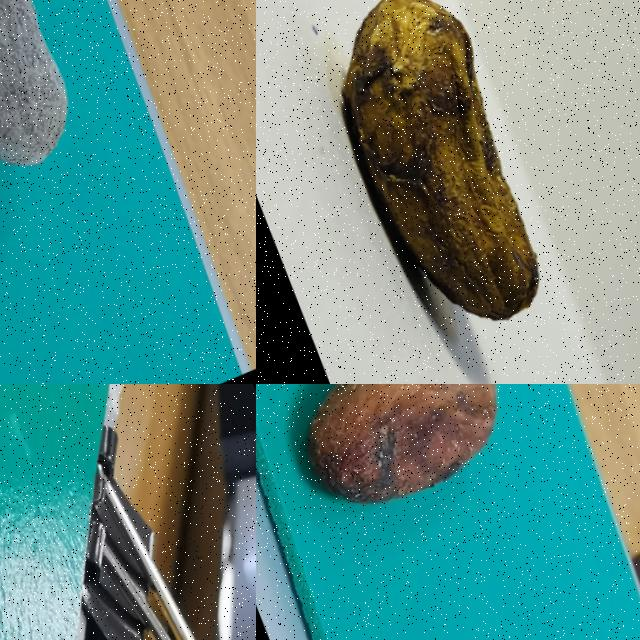Agglomerated_cocoabeans: (0, 0, 131, 299)
Fine_cocoabeans: (256, 0, 639, 383), (256, 384, 594, 639)
